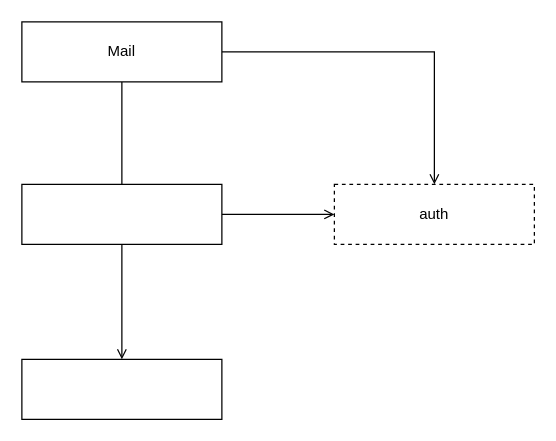
Some shapes in this 556 by 441 pixel diagram are drawn without their labels. The shapes that lost their labels are listed below. From the top down, each one's centre as x and y in pixels, then its label:
At point 121,213: "plainAuth.Start".
At point 121,388: "SendMail".
